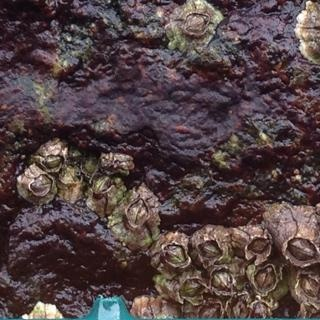Barnacle: (286, 236, 317, 264), (252, 264, 277, 295), (177, 276, 204, 302), (124, 198, 149, 226), (209, 267, 233, 295), (299, 274, 320, 304), (161, 243, 188, 266), (226, 295, 250, 319), (182, 12, 210, 32), (29, 173, 53, 195), (199, 238, 222, 259), (246, 236, 270, 255), (59, 164, 81, 184), (41, 154, 64, 171), (90, 174, 111, 191)
